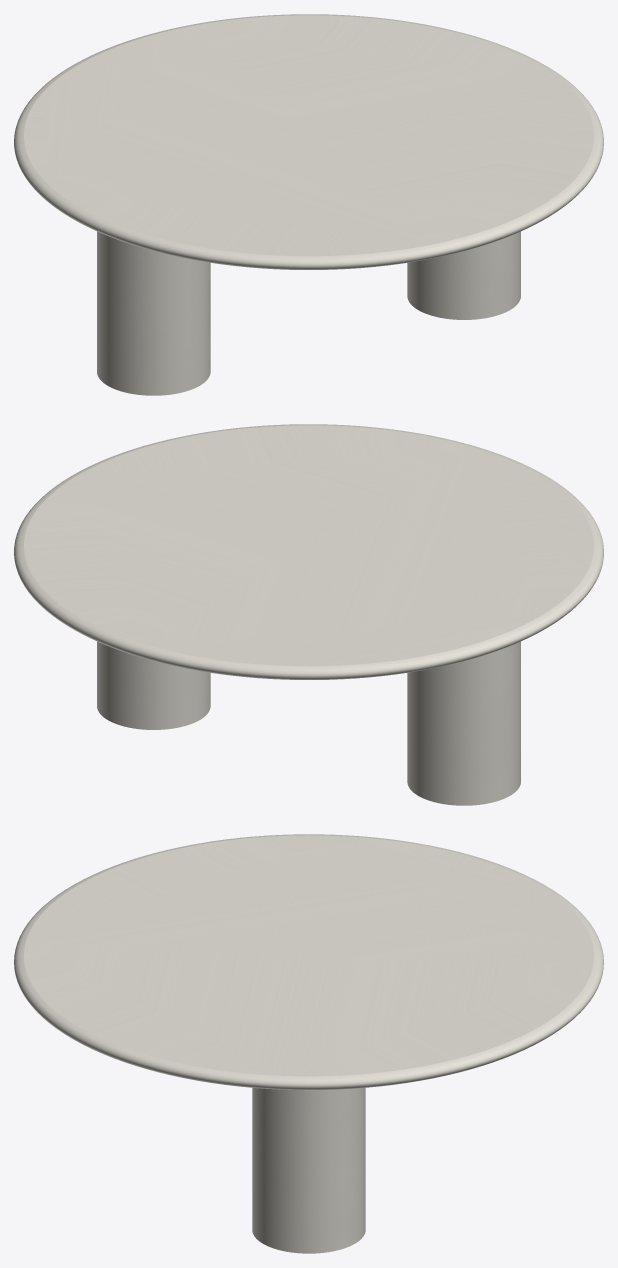
File: pale_round_round_stream.glb
3 views of the same model, one above another, from view 1: azimuth 30°, elevation 25°; view 2: azimuth 150°, elevation 25°; view 3: azimuth 270°, elevation 25° (orthographic).
Visible parts, largest first — view 1: round_round, stream; view 2: round_round, stream; view 3: round_round, stream.
Part boxes in pixels (<box>): round_round: <box>14,14,603,269</box>; stream: <box>97,231,520,395</box>; round_round: <box>14,424,603,679</box>; stream: <box>97,641,520,805</box>; round_round: <box>14,834,603,1090</box>; stream: <box>252,1088,365,1253</box>.
Size of the model in its own units: 6.75 by 2.5 by 6.75.
Materials: 1 (1 with a texture image).
